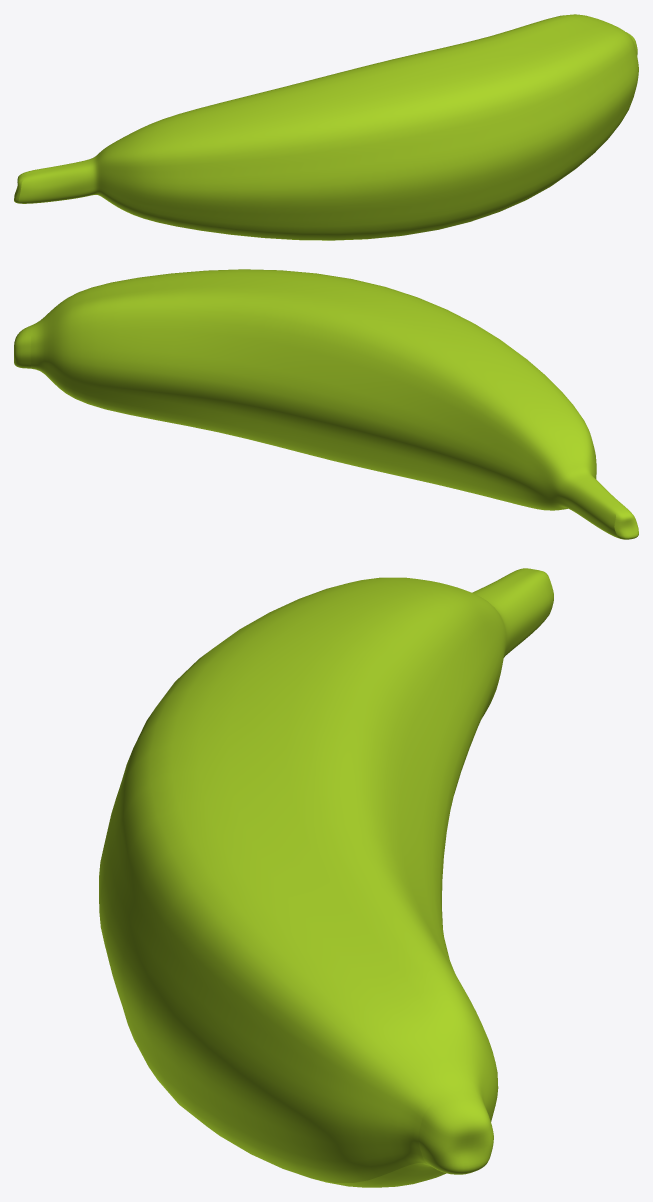
Rendered from banana.fbx.
The picture shows the model from 3 angles, top to bottom: view 1: azimuth 30°, elevation 25°; view 2: azimuth 150°, elevation 25°; view 3: azimuth 270°, elevation 25°; orthographic projection. The views are drawn at different scales.
Parts seen in each view (by area): view 1: Cube_001; view 2: Cube_001; view 3: Cube_001.
Boxes of the visible parts, x1,y1,x2,y2 form: Cube_001: (14, 14, 638, 240); Cube_001: (14, 269, 638, 539); Cube_001: (99, 568, 553, 1187).
Bounding box in the file's own units: 7.51 × 1.75 × 2.46.
